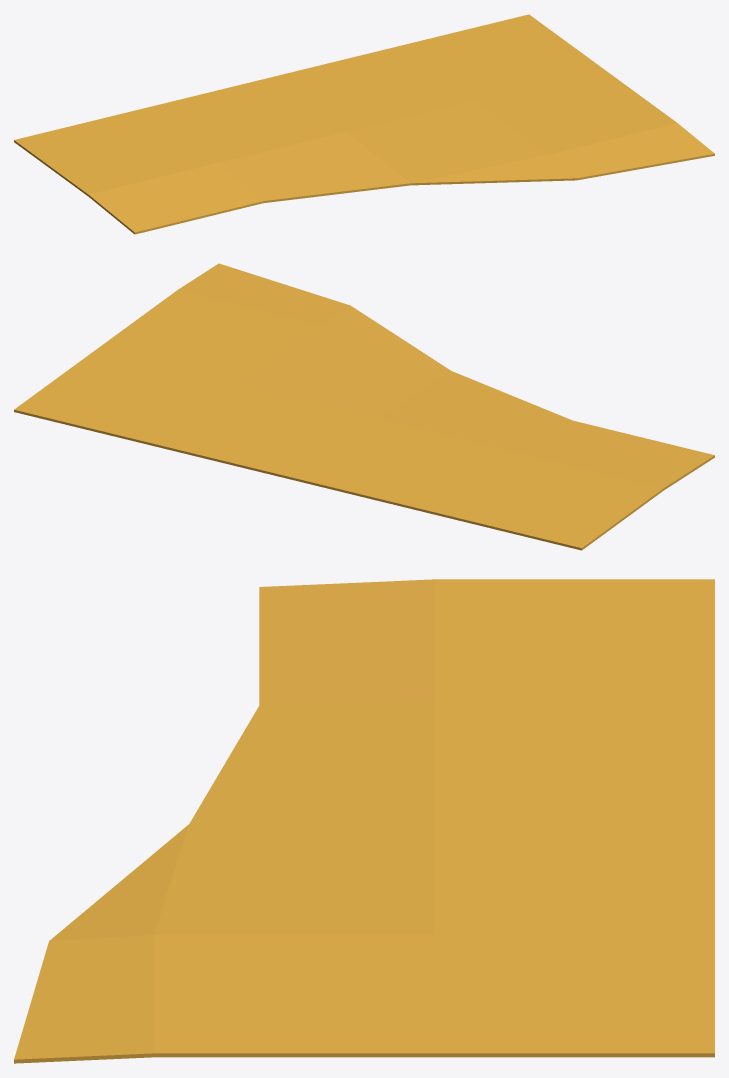
3 renders of one model, top to bottom at view 1: azimuth 30°, elevation 25°; view 2: azimuth 150°, elevation 25°; view 3: azimuth 270°, elevation 25°, orthographic. The views are drawn at different scales.
Visible parts, largest first — view 1: 01_street_base_plate-COL.050; view 2: 01_street_base_plate-COL.050; view 3: 01_street_base_plate-COL.050.
Part boxes in pixels (x1,y1,x2,y2): 01_street_base_plate-COL.050: (14, 14, 714, 234); 01_street_base_plate-COL.050: (14, 263, 714, 550); 01_street_base_plate-COL.050: (14, 579, 714, 1063).
Size of the model in its own units: 256 by 2.92 by 160.
